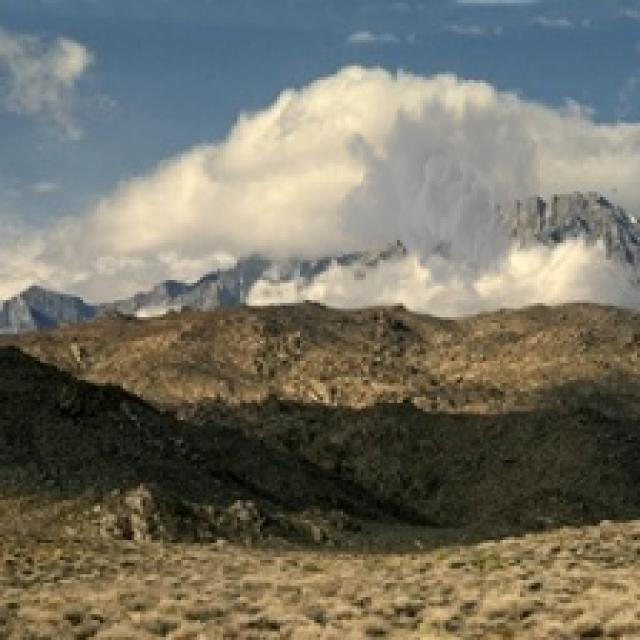smoke: (334, 71, 543, 300)
